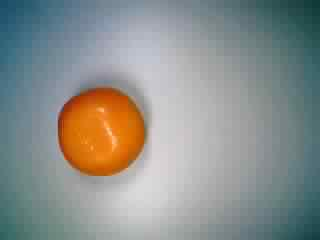orange: (51, 80, 148, 178)
